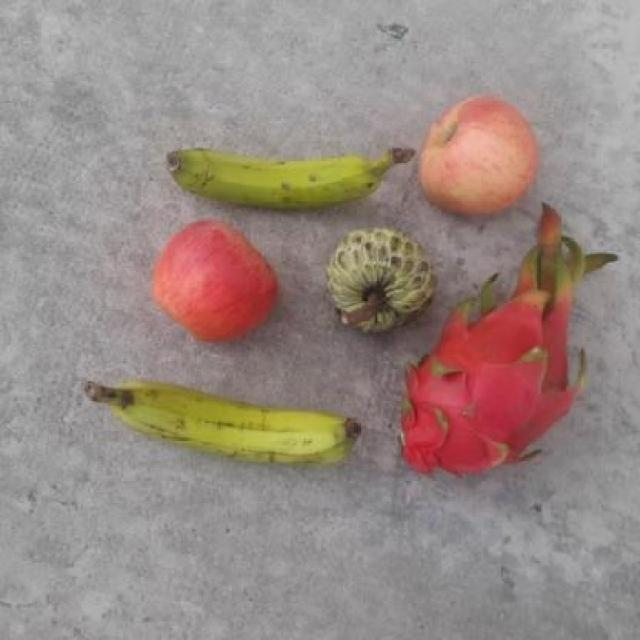apple: (413, 91, 542, 220), (151, 219, 274, 350)
banana: (115, 376, 366, 472), (163, 136, 391, 213)
dragon fruit: (391, 275, 567, 489)
sugar apple: (321, 223, 441, 340)
